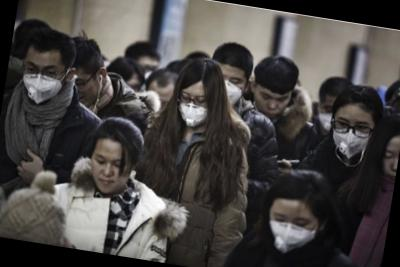with_mask: (262, 209, 319, 260), (20, 57, 68, 107), (329, 114, 375, 162), (175, 87, 214, 129), (217, 72, 248, 106), (314, 100, 337, 133)
without_mask: (86, 150, 135, 198), (251, 86, 293, 121), (70, 74, 103, 109), (378, 145, 400, 187)
